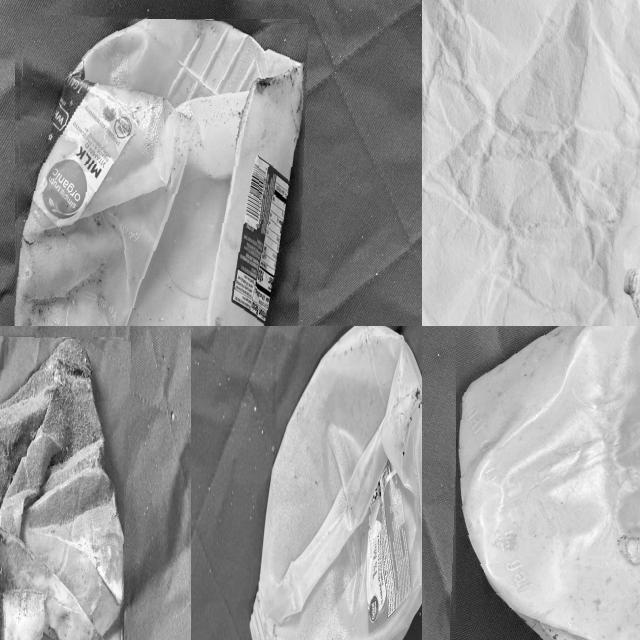milk-jug: (9, 15, 303, 326), (452, 326, 640, 640), (249, 326, 422, 640), (0, 334, 127, 640)
